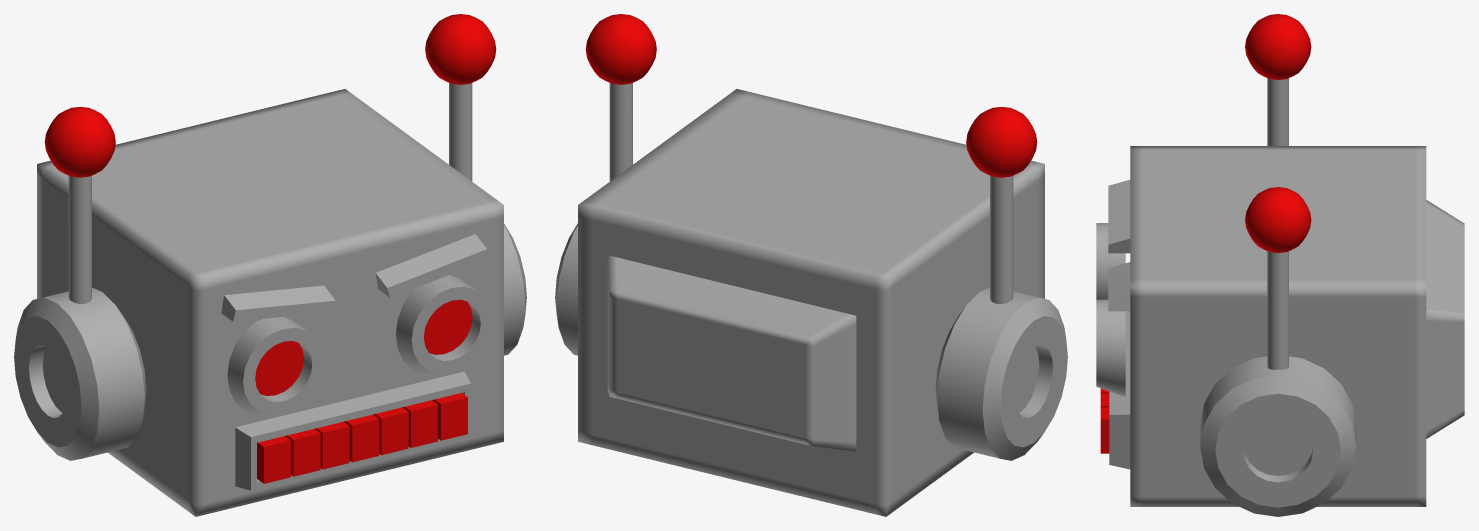
File: robot_head.fbx
3 views of the same model, side by side, from view 1: azimuth 30°, elevation 25°; view 2: azimuth 150°, elevation 25°; view 3: azimuth 270°, elevation 25° (orthographic). The views are drawn at different scales.
Parts seen in each view (by area): view 1: robot_head; view 2: robot_head; view 3: robot_head.
Boxes of the visible parts, x1=… form: robot_head: x1=14, y1=14, x2=526, y2=516; robot_head: x1=555, y1=14, x2=1067, y2=516; robot_head: x1=1096, y1=14, x2=1464, y2=516.
Bounding box in the file's own units: 1.3 × 0.9992 × 1.
